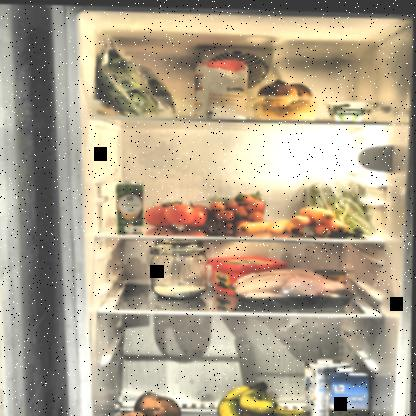banana: (215, 376, 314, 415)
butter: (206, 251, 290, 297)
carrot: (286, 202, 349, 238), (238, 215, 290, 234)
chicken: (228, 260, 361, 310)
green_beans: (299, 164, 378, 236)
heavy_cream: (114, 178, 146, 234)
milk: (304, 354, 354, 415), (323, 363, 376, 415)
onion: (246, 75, 323, 119)
spinach: (91, 34, 183, 119)
strawberries: (208, 186, 270, 230)
sweet_potato: (104, 384, 190, 415)
tomato: (143, 195, 212, 229)
